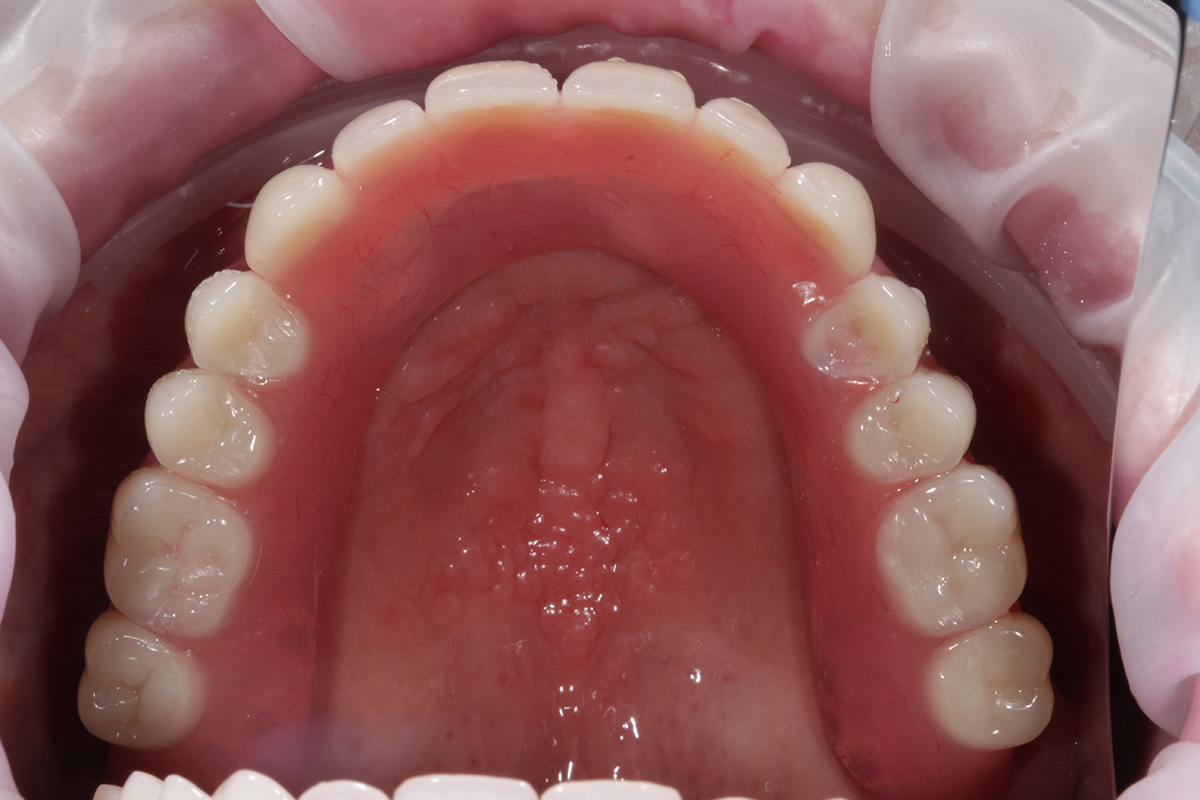UL1BC_healthy: (801, 279, 921, 368)
UL1M_healthy: (876, 483, 1021, 622)
UL2BC_healthy: (850, 384, 970, 474)
UL2M_healthy: (921, 635, 1061, 745)
ULCI_healthy: (565, 55, 695, 164)
ULC_healthy: (774, 146, 875, 272)
ULLI_healthy: (693, 101, 784, 179)
UR1BC_decay: (189, 285, 310, 389)
UR1M_healthy: (114, 485, 253, 627)
UR2BC_decay: (145, 376, 279, 485)
UR2M_healthy: (84, 627, 204, 742)
URCI_healthy: (421, 55, 563, 158)
URC_healthy: (244, 176, 353, 259)
URLI_healthy: (352, 106, 435, 190)
